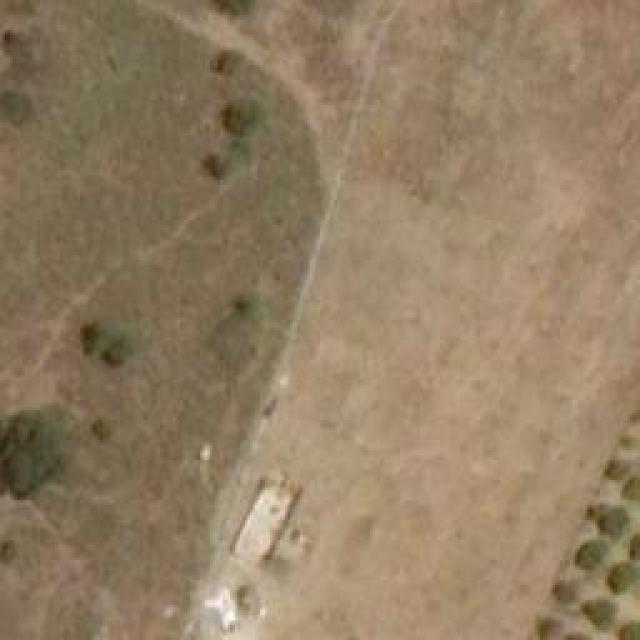Tree: (0, 417, 62, 487), (80, 323, 125, 366), (223, 95, 263, 140), (3, 87, 37, 121), (583, 600, 618, 630), (607, 565, 640, 595), (215, 45, 248, 75), (202, 150, 235, 180), (218, 0, 261, 23), (597, 510, 625, 540), (230, 290, 260, 316), (575, 543, 605, 568), (0, 540, 24, 568), (553, 583, 576, 608), (538, 620, 561, 638), (620, 622, 640, 640), (622, 478, 640, 498), (602, 458, 620, 478)
